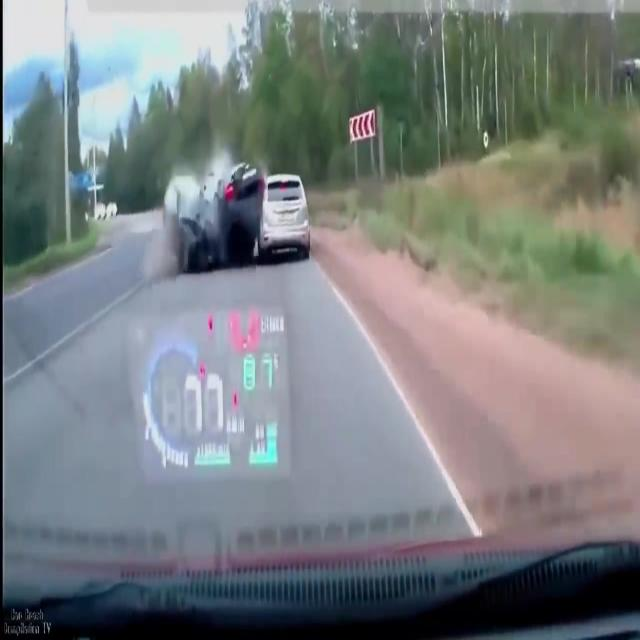accident: (139, 128, 266, 300)
